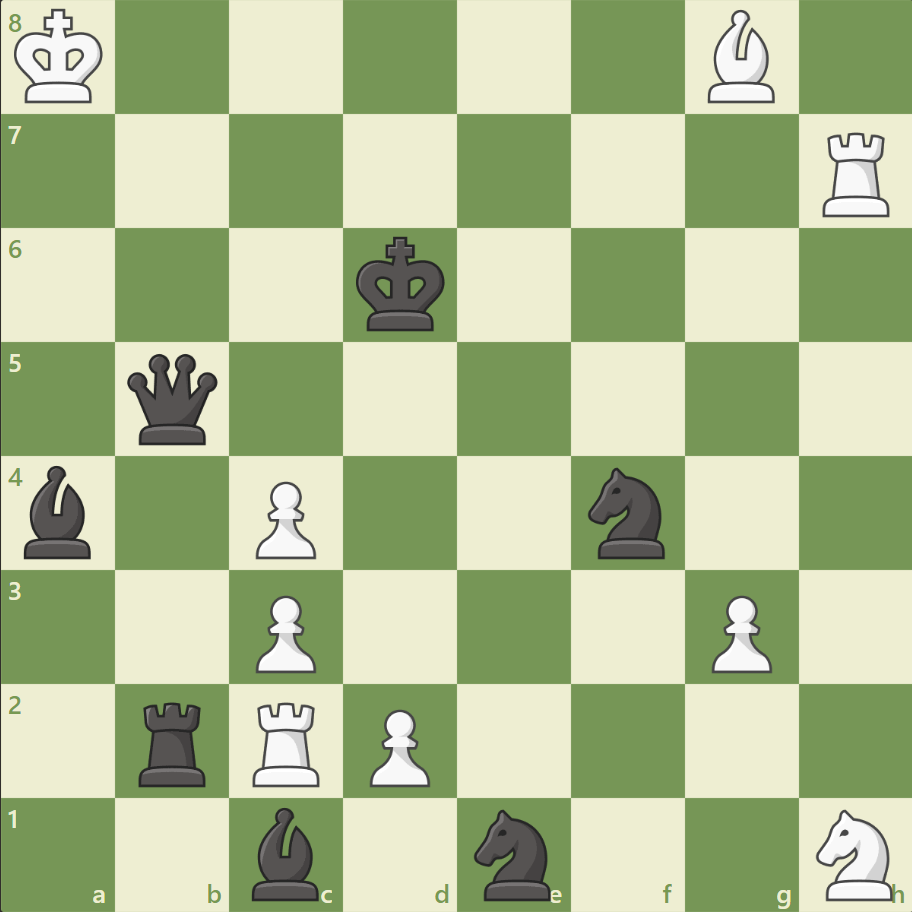B: (698, 6, 782, 109)
K: (11, 4, 111, 112)
N: (806, 802, 903, 904)
P: (247, 473, 322, 564), (247, 586, 322, 677), (701, 586, 776, 677), (361, 700, 435, 791)
R: (814, 125, 897, 222), (246, 693, 329, 790)
b: (17, 460, 101, 563), (244, 801, 328, 904)
k: (351, 231, 451, 339)
n: (579, 461, 676, 564), (465, 802, 562, 904)
q: (124, 349, 223, 449)
r: (133, 693, 215, 790)
